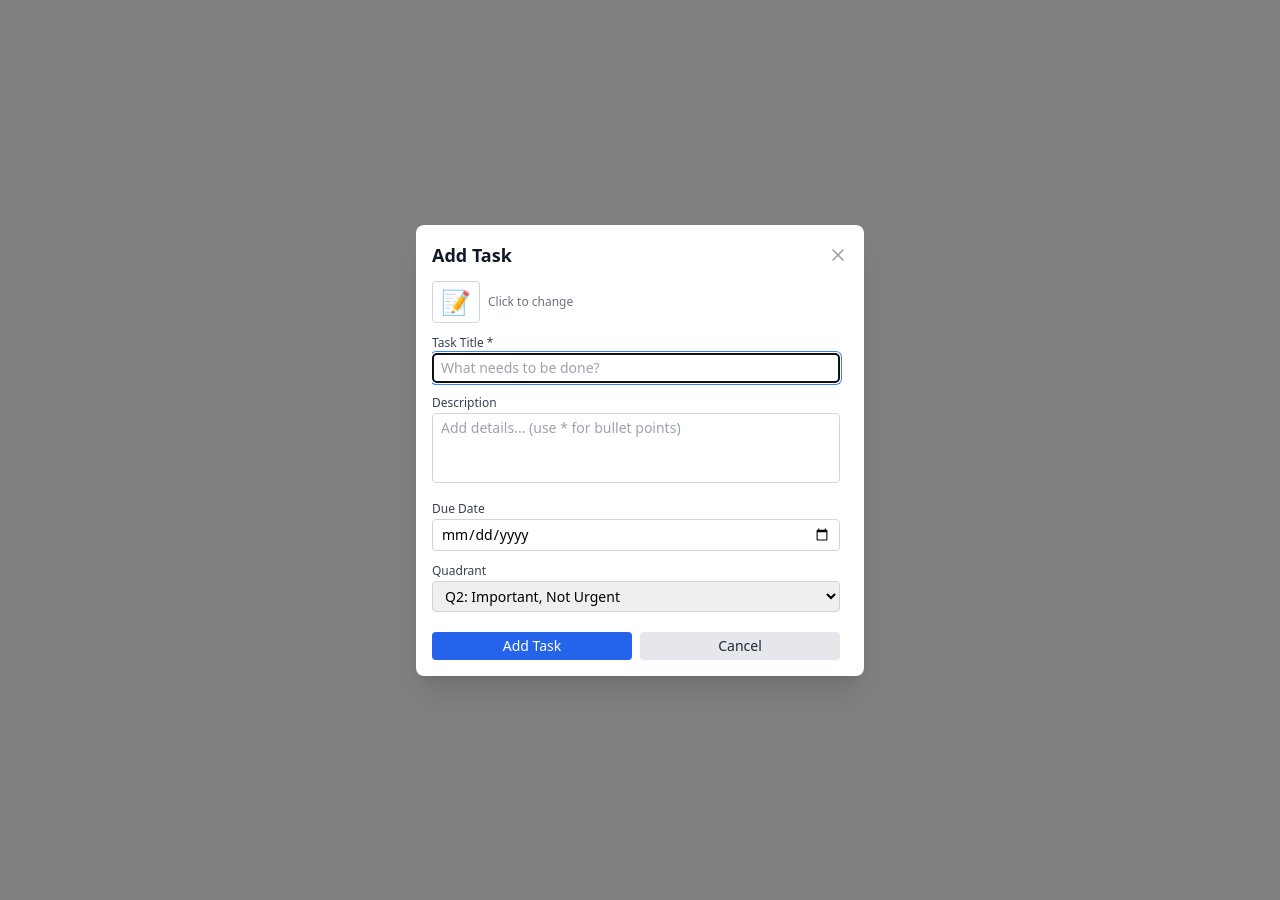
Scenario: TaskModal › auto-selects icon based on title
Type "Fix the bug" into the field with placeholder "What needs to be done?" at (636, 368), box [432,352,840,382]
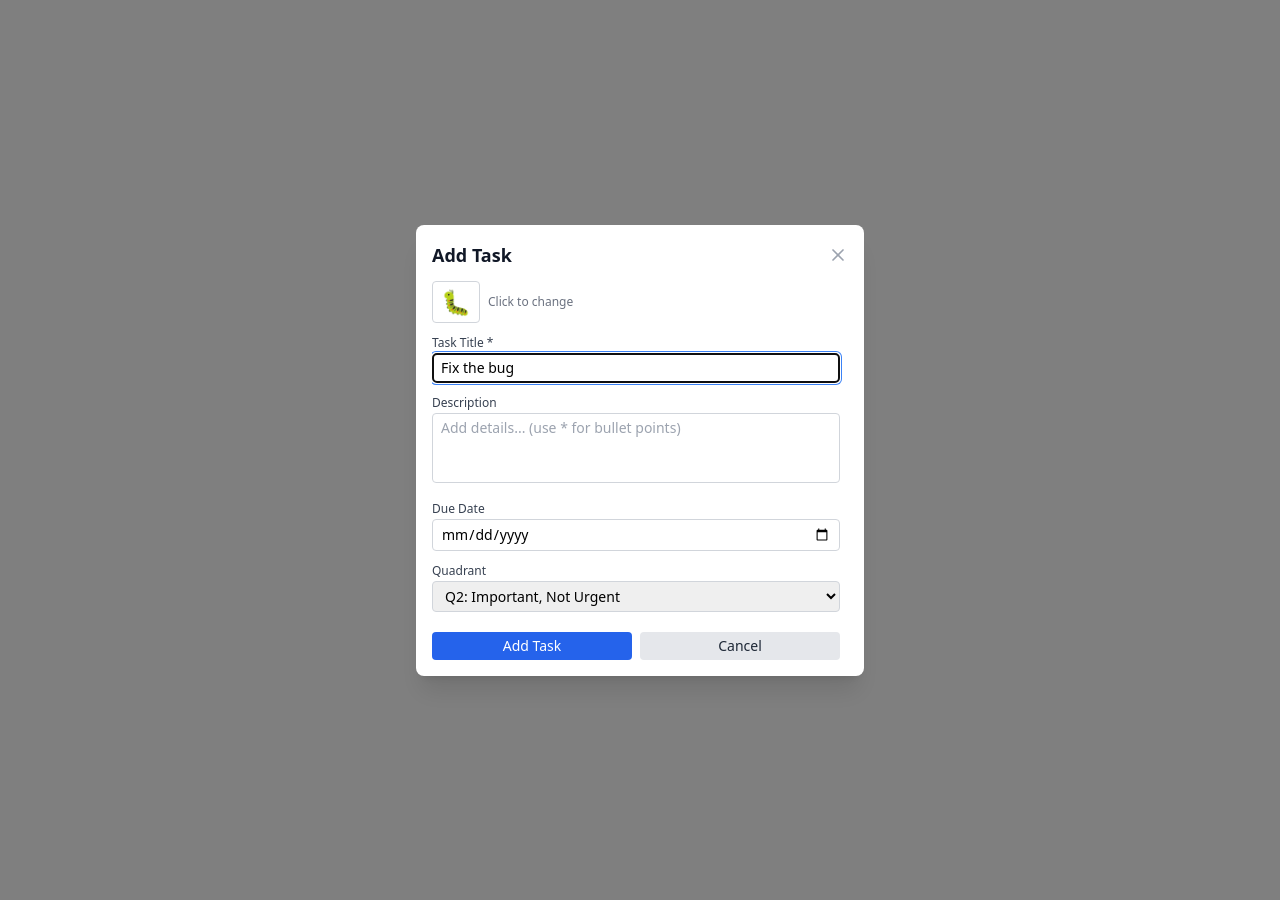
expect the button "🐛" is shown: met, box [432,280,480,322]
